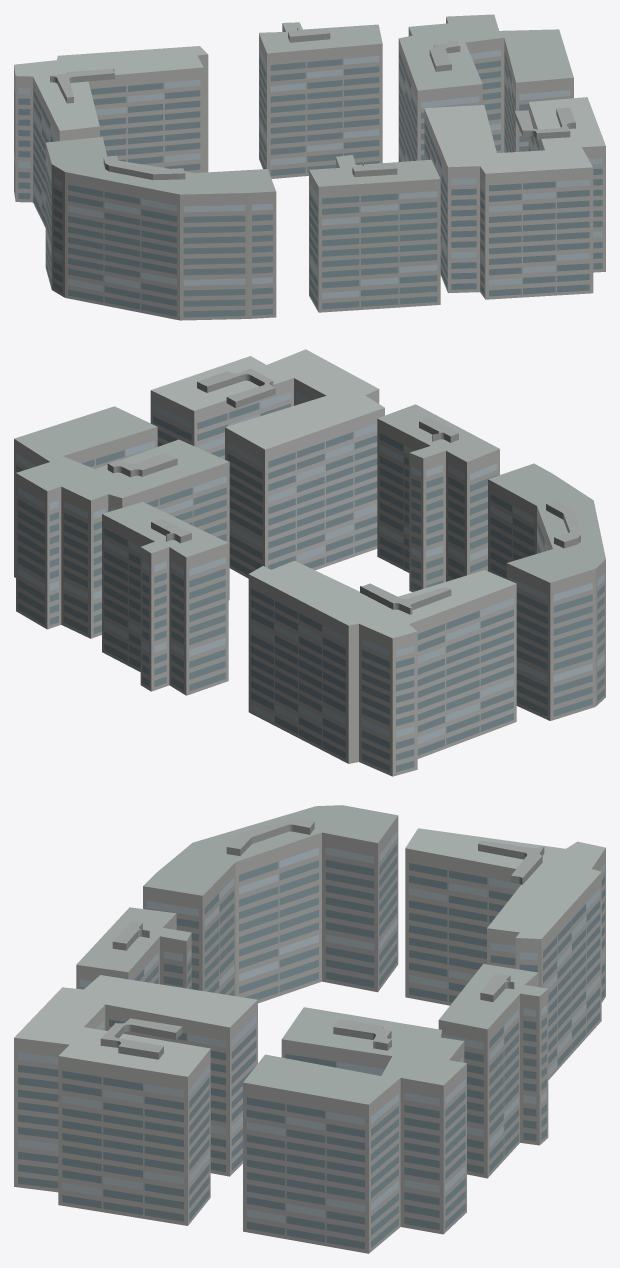
File: apt-a13811203.glb
The picture shows the model from 3 angles, top to bottom: view 1: azimuth 30°, elevation 25°; view 2: azimuth 150°, elevation 25°; view 3: azimuth 270°, elevation 25°; orthographic projection. The views are drawn at different scales.
Visible parts, largest first — view 1: apt-a13811203; view 2: apt-a13811203; view 3: apt-a13811203.
Part boxes in pixels (<box>): apt-a13811203: <box>14,14,605,320</box>; apt-a13811203: <box>14,349,605,776</box>; apt-a13811203: <box>14,805,605,1253</box>.
Size of the model in its own units: 144 by 35 by 120.
